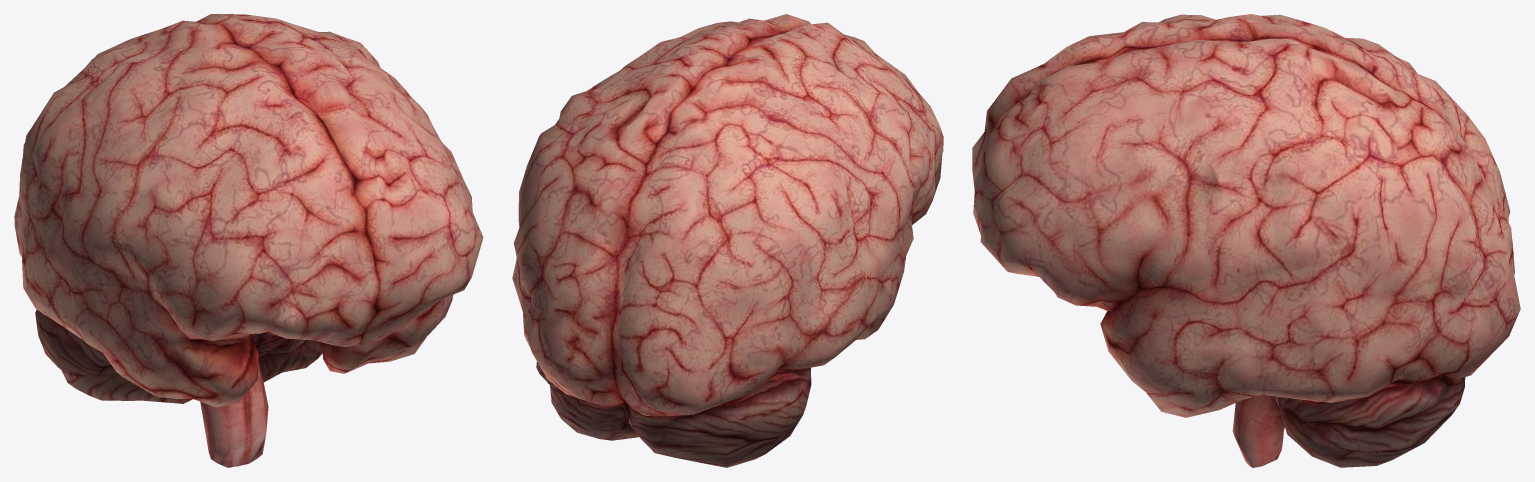
Rendered from brain.glb.
3 views of the same model, side by side, from view 1: azimuth 30°, elevation 25°; view 2: azimuth 150°, elevation 25°; view 3: azimuth 270°, elevation 25° (orthographic). The views are drawn at different scales.
Parts seen in each view (by area): view 1: Object_5; view 2: Object_5; view 3: Object_5.
Boxes of the visible parts, bbox=[...] form: Object_5: bbox=[14, 14, 483, 467]; Object_5: bbox=[512, 14, 943, 467]; Object_5: bbox=[972, 14, 1520, 467].
Bounding box in the file's own units: 0.7578 × 0.8546 × 0.9919.
Materials: 1 (1 with a texture image).
